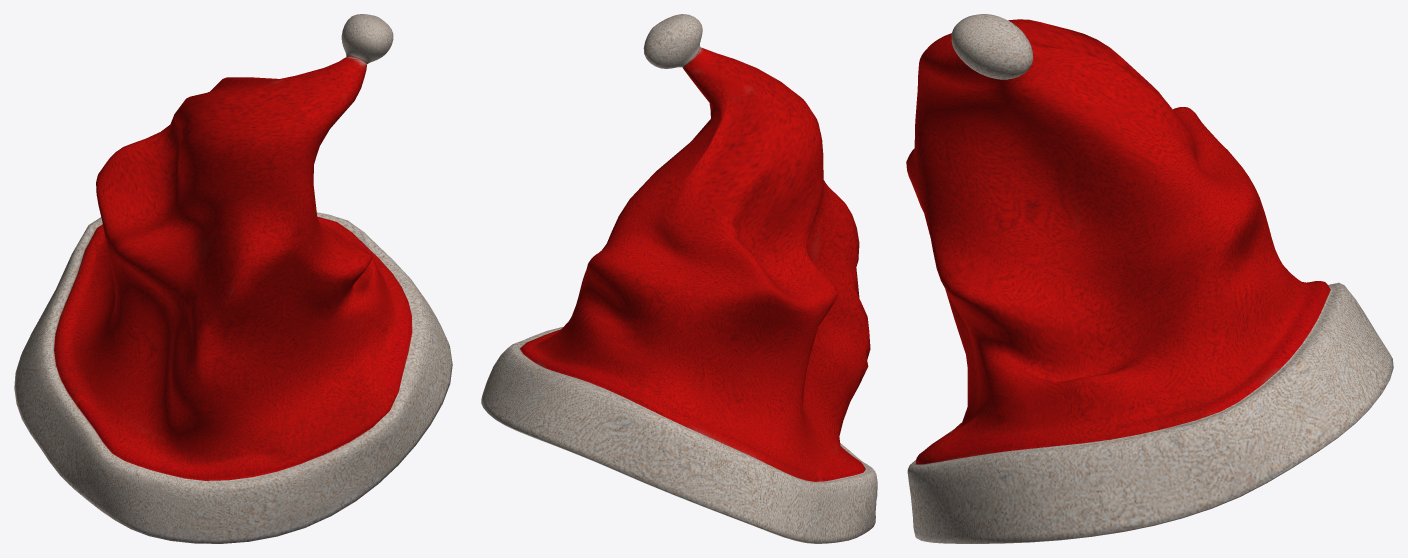
Rendered from santa_hat_floating1.fbx.
The picture shows the model from 3 angles, left to right: view 1: azimuth 30°, elevation 25°; view 2: azimuth 150°, elevation 25°; view 3: azimuth 270°, elevation 25°; orthographic projection. The views are drawn at different scales.
Parts seen in each view (by area): view 1: SantaHat:Cone; view 2: SantaHat:Cone; view 3: SantaHat:Cone.
Boxes of the visible parts, x1=… form: SantaHat:Cone: x1=14, y1=14, x2=452, y2=543; SantaHat:Cone: x1=481, y1=14, x2=877, y2=543; SantaHat:Cone: x1=906, y1=14, x2=1393, y2=543.
Size of the model in its own units: 0.6806 by 0.8478 by 0.6547.
